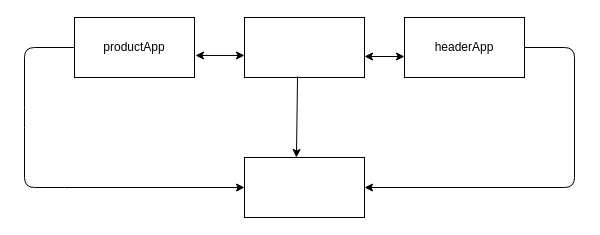
The diagram is 600 pixels wide and 235 high, and some of its shapes have lost their labels. Each missing label, with the centre of its shape:
"container" belongs at (304,47).
"storeApp" belongs at (304,187).
